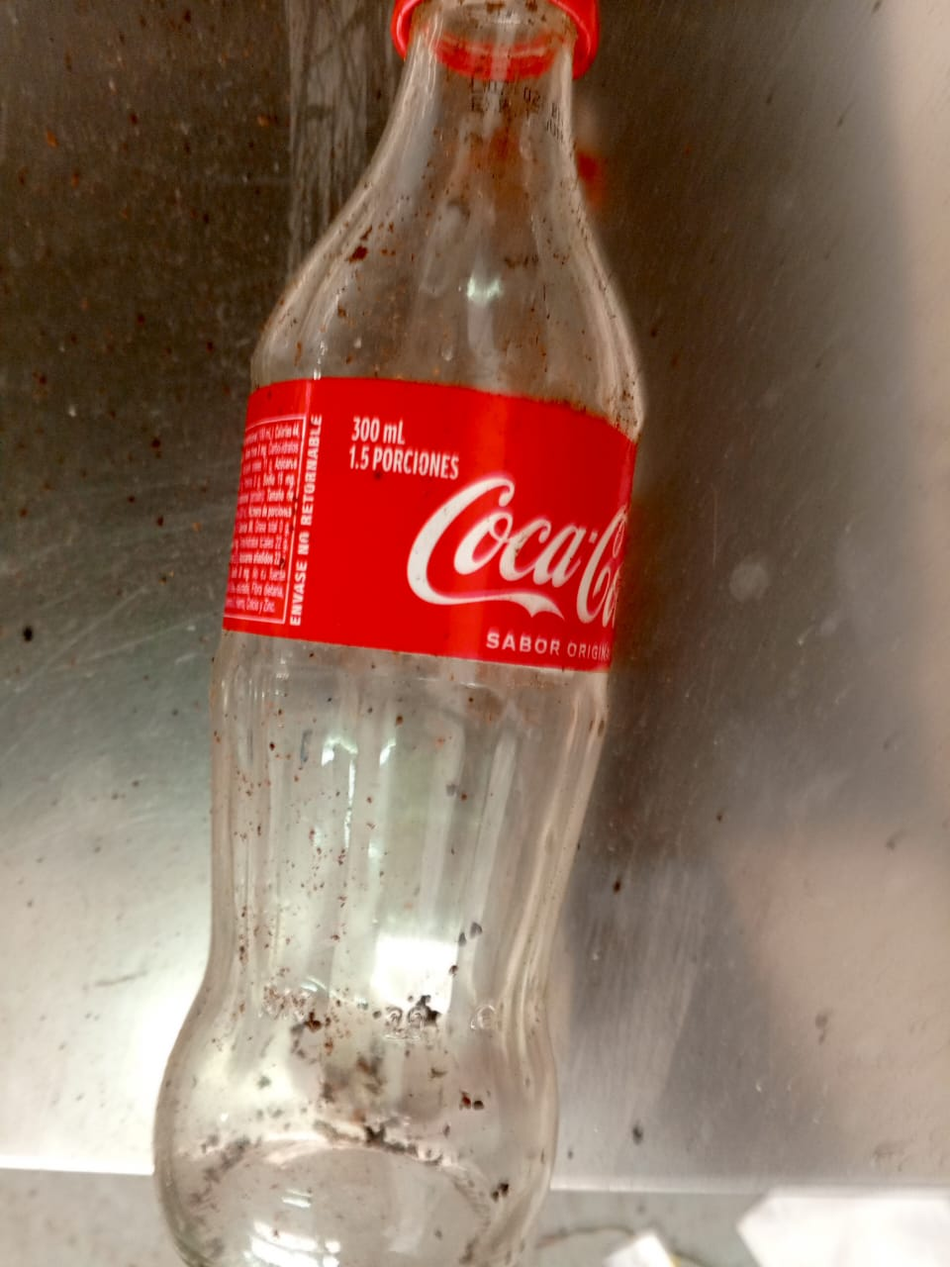Plastico: (155, 2, 641, 1267)
